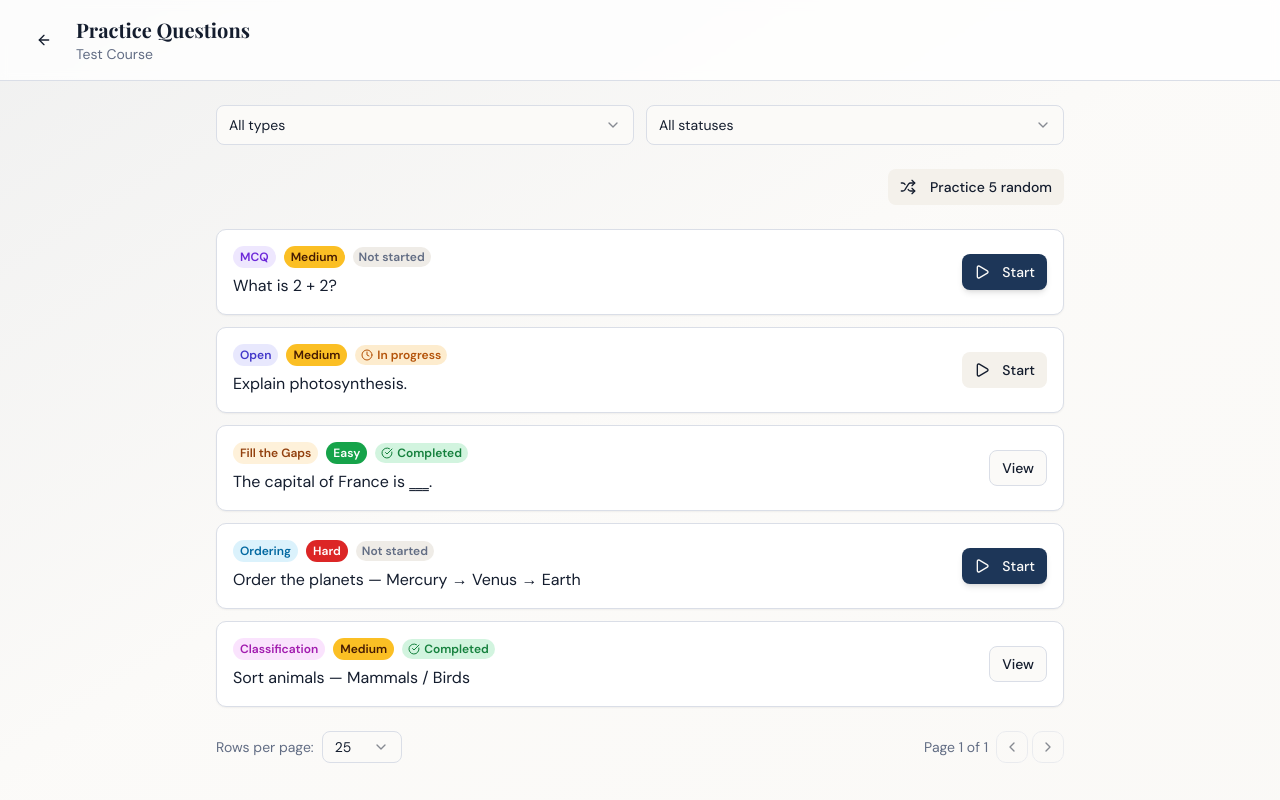
UnifiedPracticeQuestionsList › filters by type when the type select is changed
The image size is (1280, 800).
Click the dropdown named "Filter by type".
click(257, 125)  # box [216,105,634,145]
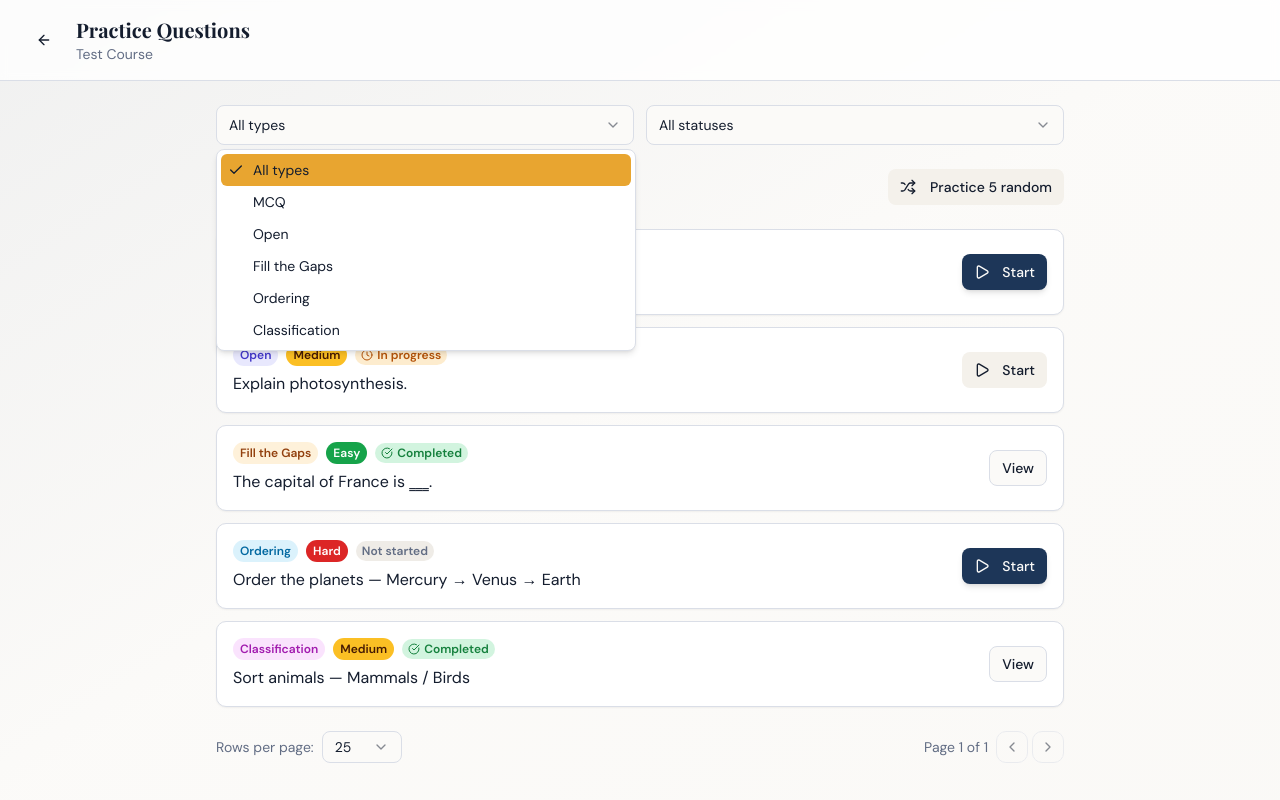
Click the option "Open".
click(271, 234)  # box [253,225,289,243]
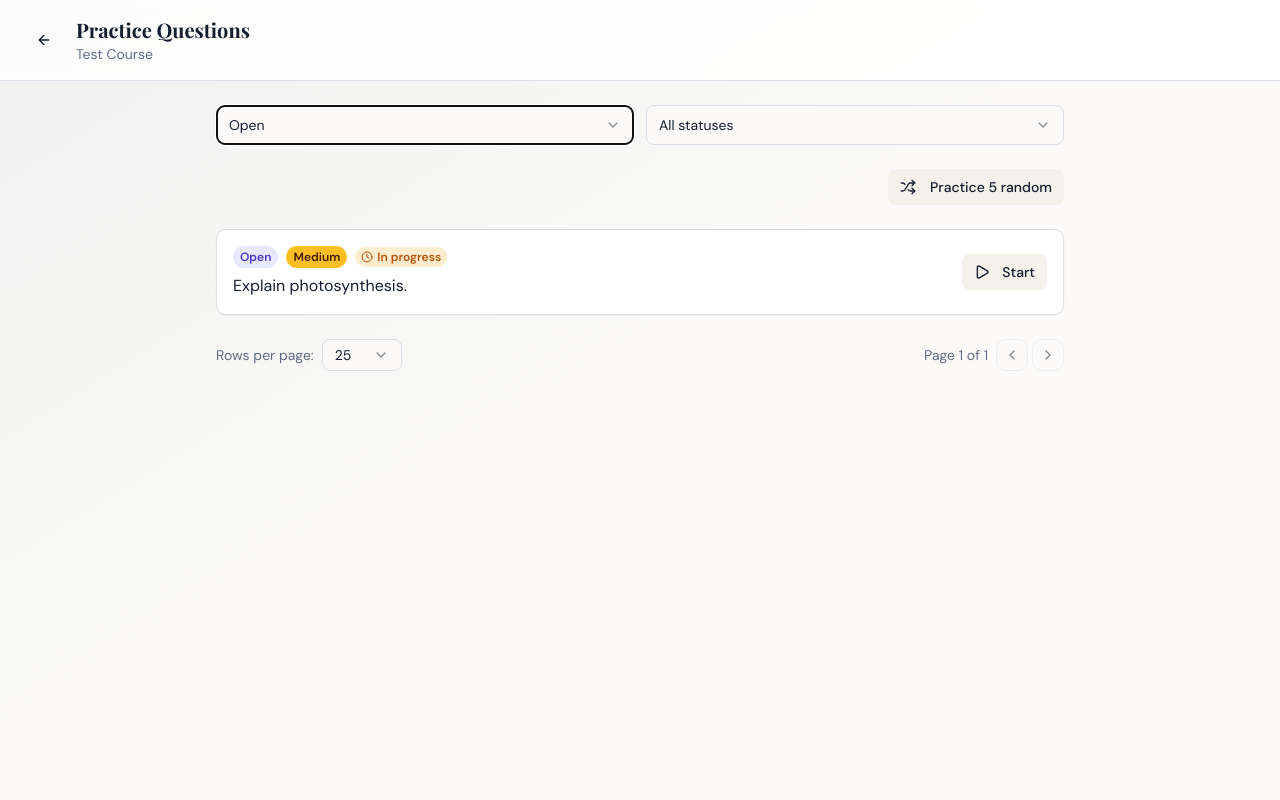
Expected: the text "Explain photosynthesis." is shown, [233,275,407,296]
Expected: the number of list items is 1, [216,229,1064,315]
